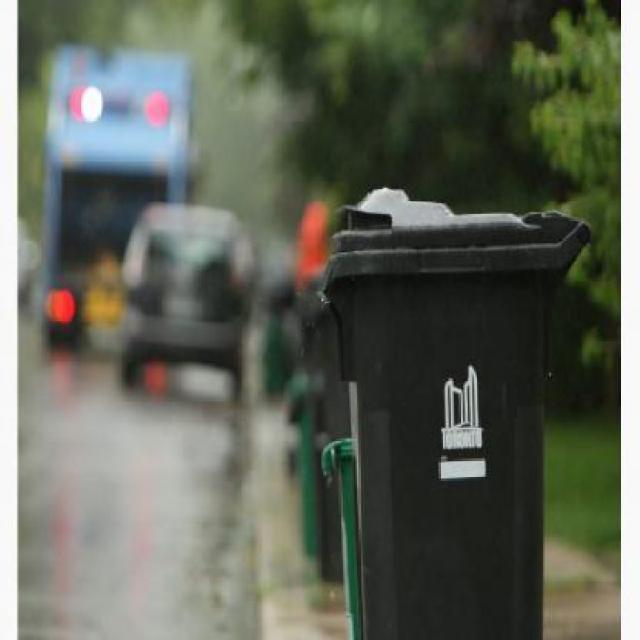garbage container: (316, 177, 598, 640)
